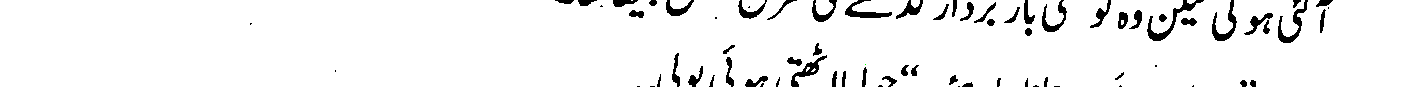bay_shosha: (1021, 12, 1033, 36)
